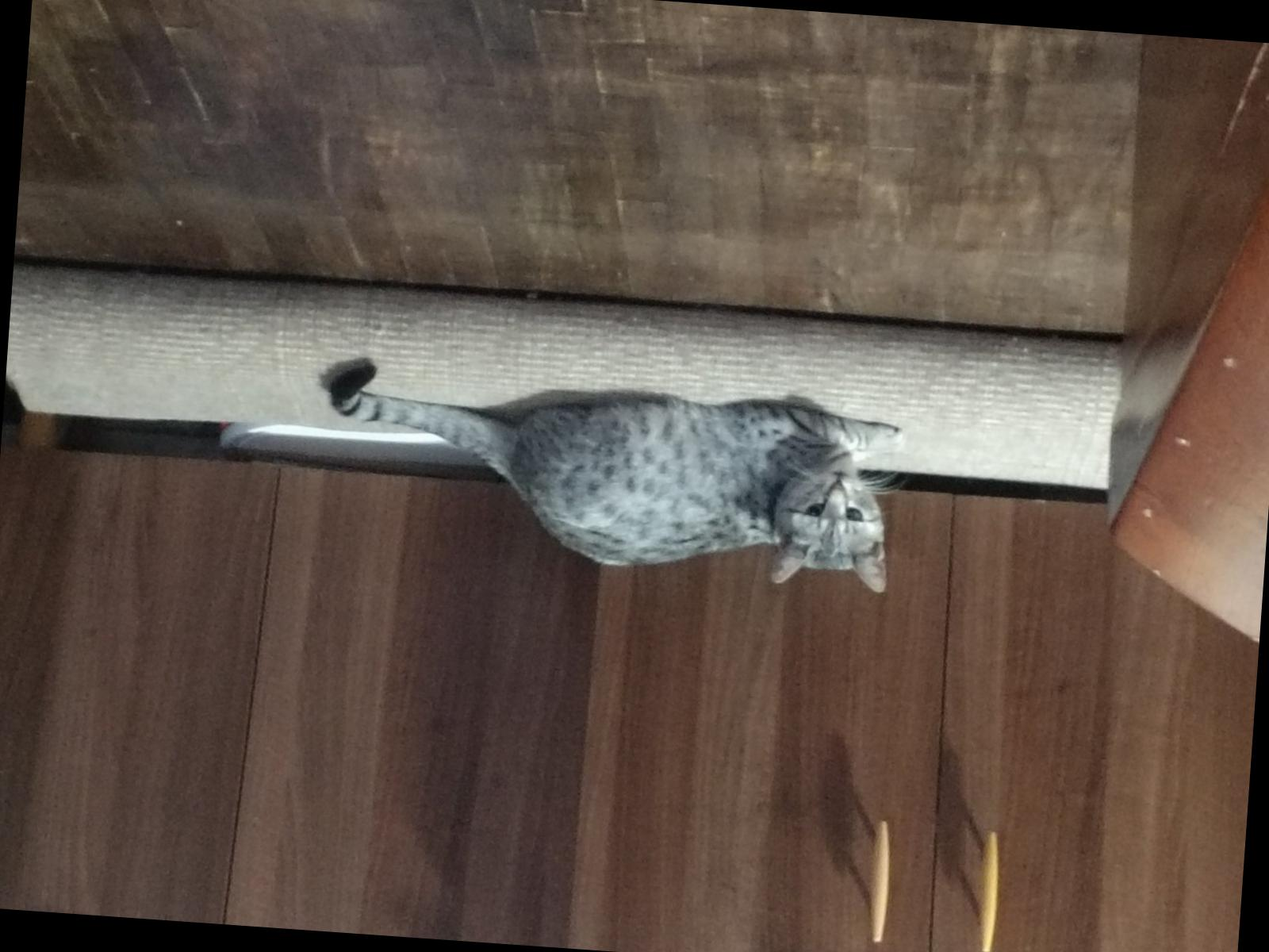macka: (307, 352, 910, 601)
